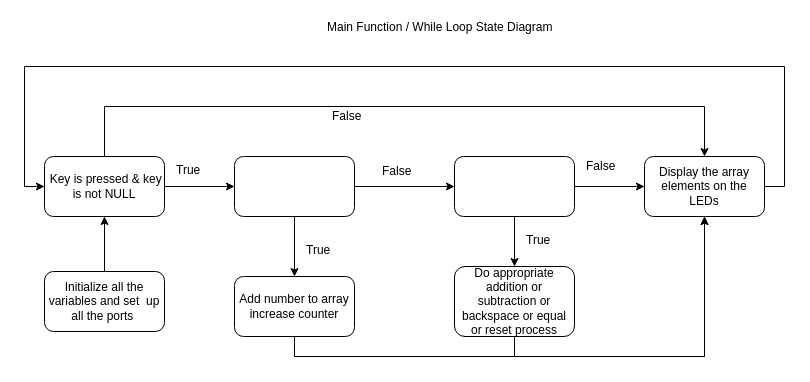
The diagram is 810 pixels wide and 382 high, and some of its shapes have lost their labels. Here are the shapes that lost their labels. From the top down, the box of each, then its label:
(234, 156, 354, 216): Key is a Number
(454, 156, 574, 216): Key is an operation (+,-,BS)
